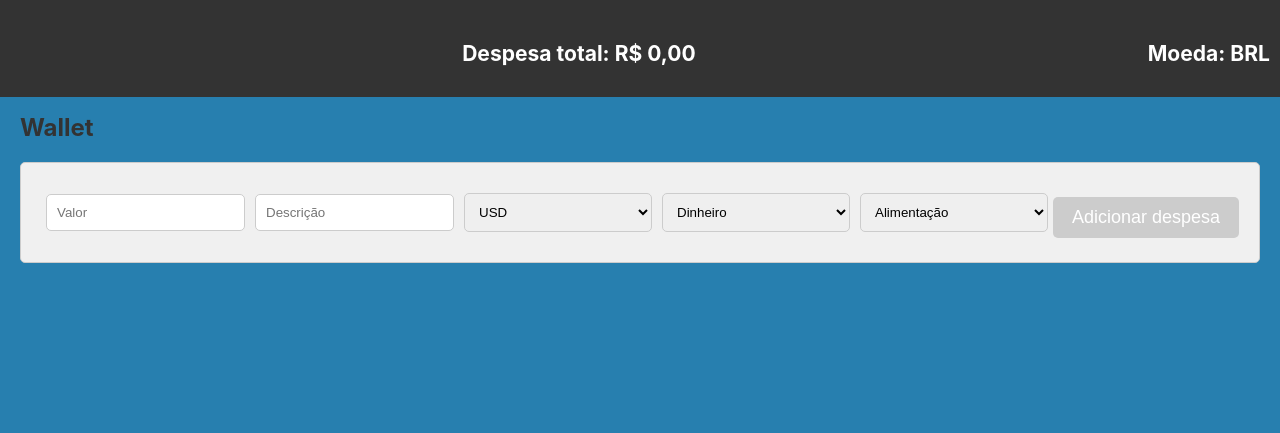
Testando a página Wallet › testa as funcionalidades da Carteira
Type "5" into the field with test id "value-input" at (146, 213), box 46,194 -> 245,231
Type "carne" into the field with test id "description-input" at (354, 213), box 255,194 -> 454,231
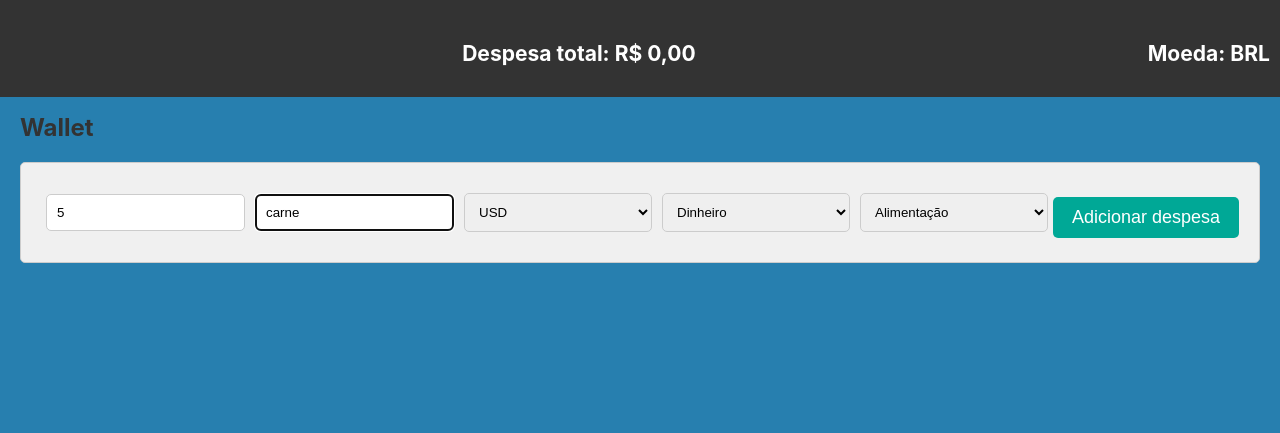
Click the button "Adicionar despesa" at (1146, 218), box 1053,197 -> 1239,238
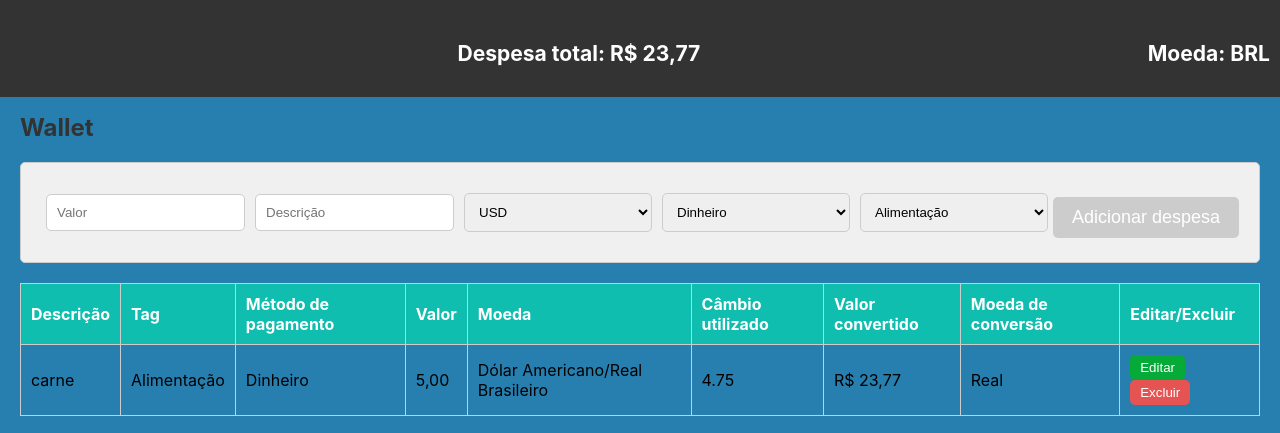
Result: the button "Editar" is shown
Result: the button "Excluir" is shown at 1130,380 -> 1190,405
Result: the text "carne" is shown at 20,345 -> 121,416
Click the button "Editar" at (1158, 368), box 1130,355 -> 1185,380
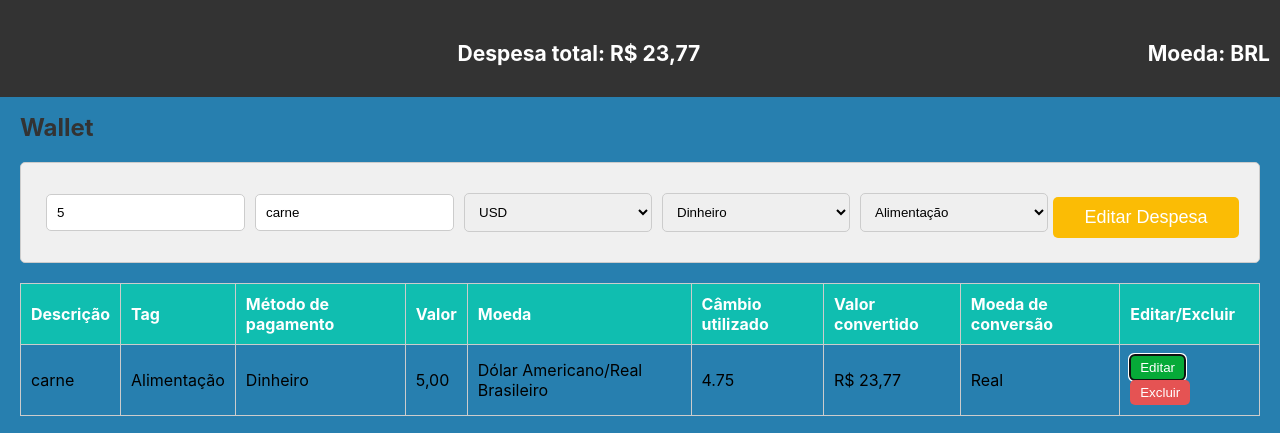
Result: the button "Editar Despesa" is shown at 1053,197 -> 1239,238
Type "arroz" into the field with test id "description-input" at (354, 213), box 255,194 -> 454,231
Type "10" into the field with test id "value-input" at (146, 213), box 46,194 -> 245,231
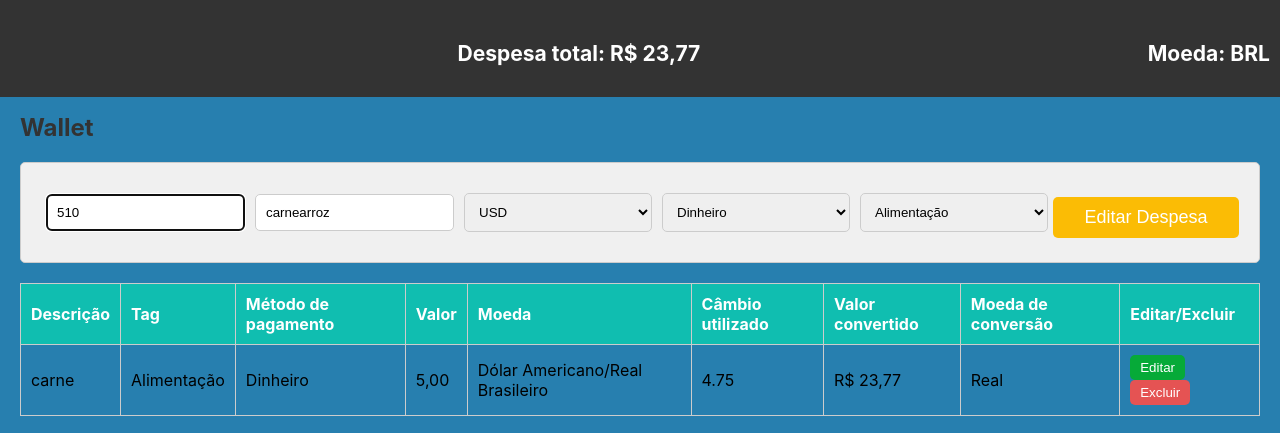
Click the button "Editar Despesa" at (1146, 218), box 1053,197 -> 1239,238
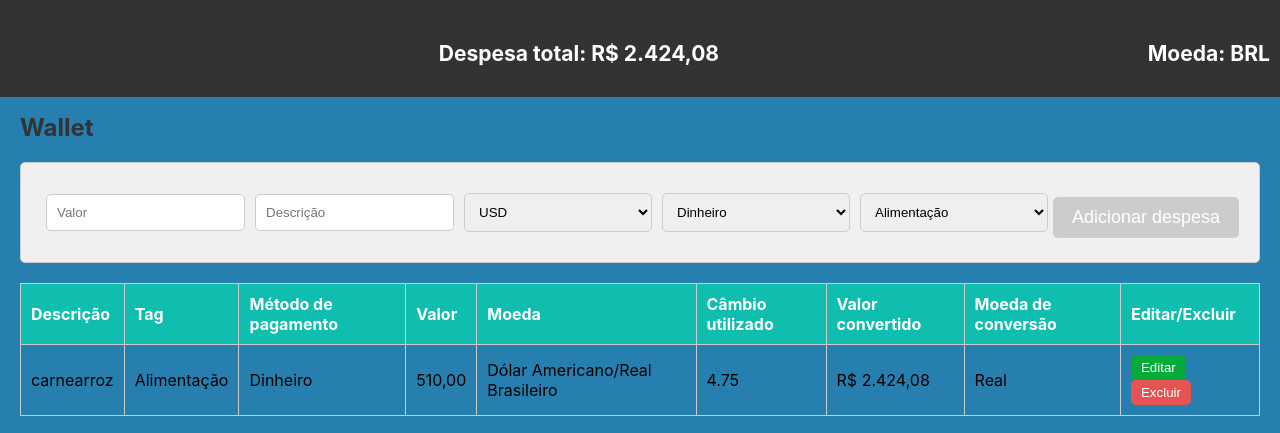
Result: the text "arroz" is shown at 31,370 -> 114,390
Click the button "Excluir" at (1161, 393), box 1131,380 -> 1191,405
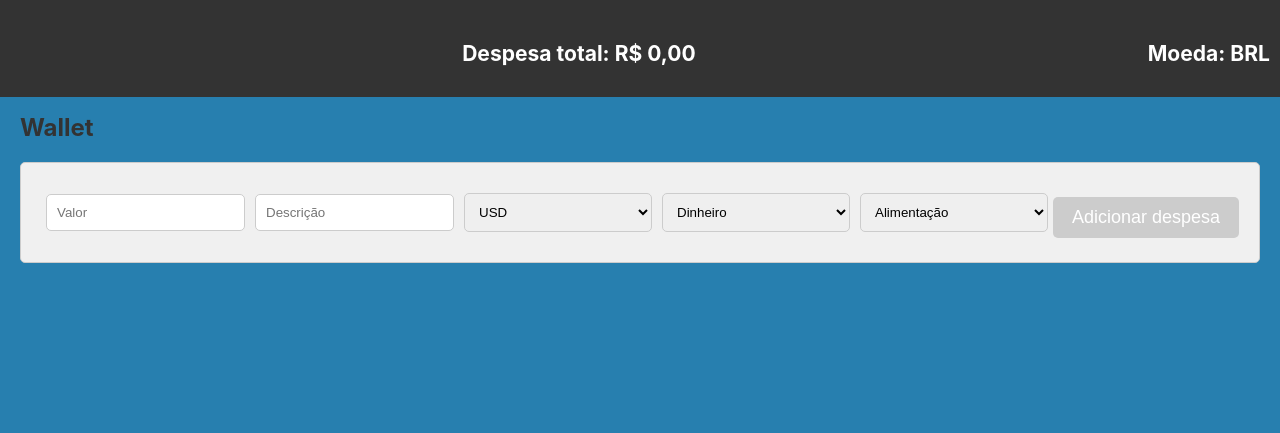
Result: the column heading "Excluir" is gone
Result: the column heading "Editar" is gone
